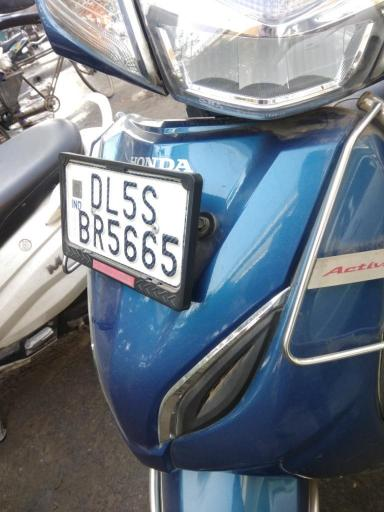doublelinenumberplate: (57, 150, 197, 311)
